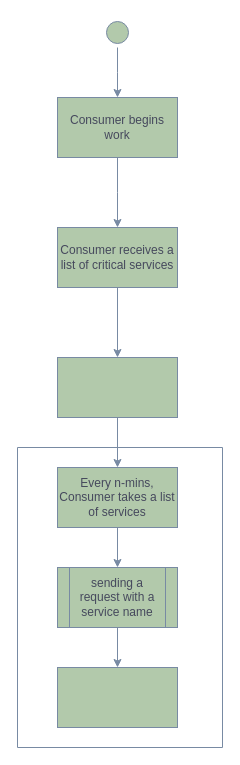
Image size: 240x765. Some labels were removed from this diagram. The box of each missing label's shape, as (x1, y1, x2, y2) in pixels:
Consumer starts a time loop for requesting: (56, 356, 178, 418)
Processing a response: (56, 666, 178, 728)
